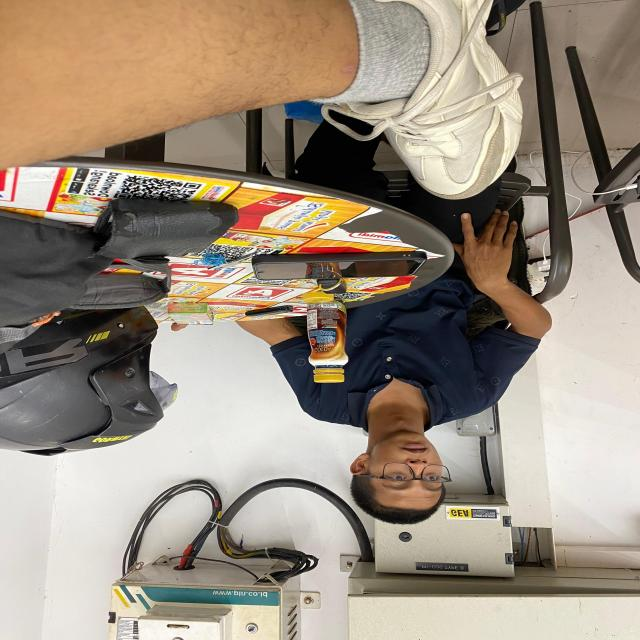nohelmet: (350, 425, 454, 532)
